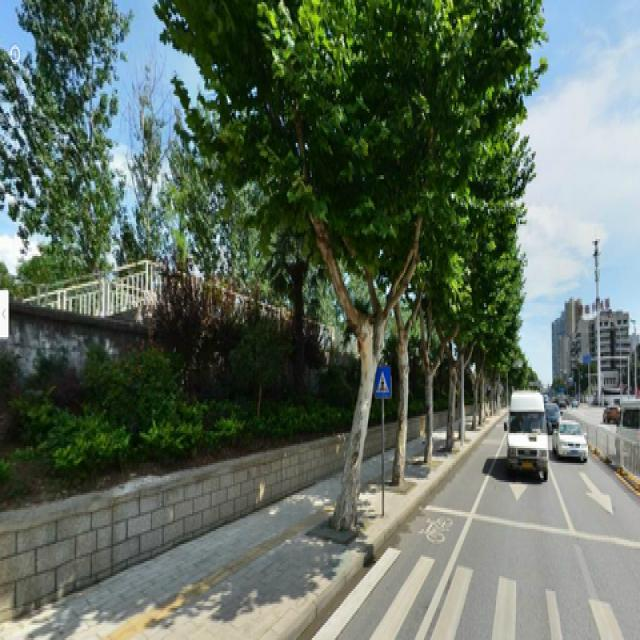meta: (257, 2, 464, 501)
